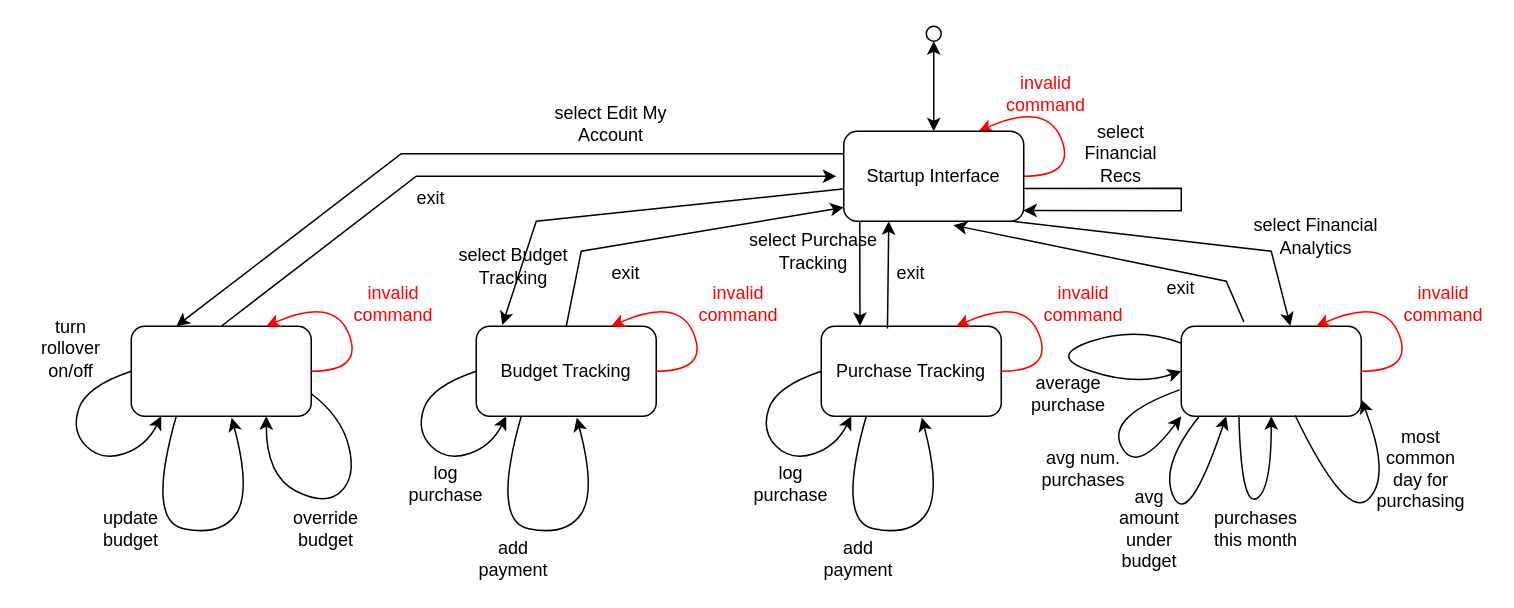
The diagram is 1514 pixels wide and 608 high, and some of its shapes have lost their labels. The shapes that lost their labels are listed below. From the top down, each one's centre as x and y in pixels, then its label:
pixel 220 370: Edit Account
pixel 1270 370: Financial Analytics
